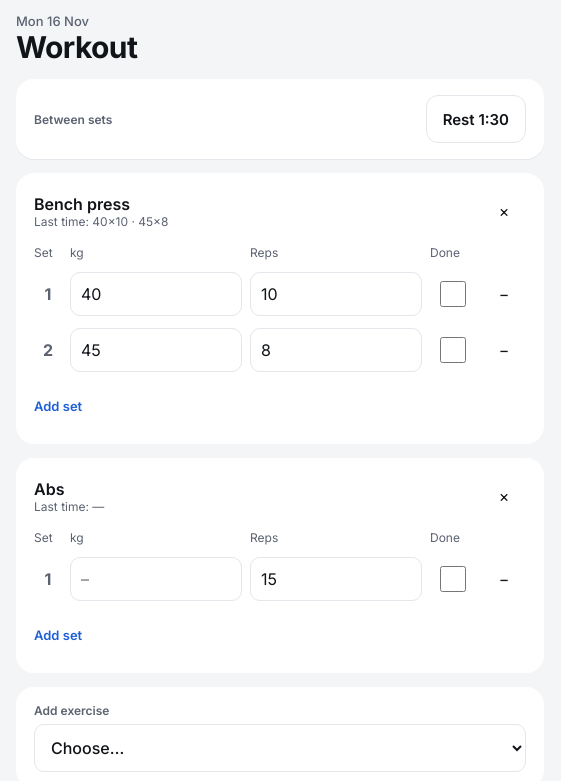
Test: the rest timer counts down, can be adjusted, and says when rest is over
Click the button "Rest 1:30" at (476, 119), box [426,95,526,143]
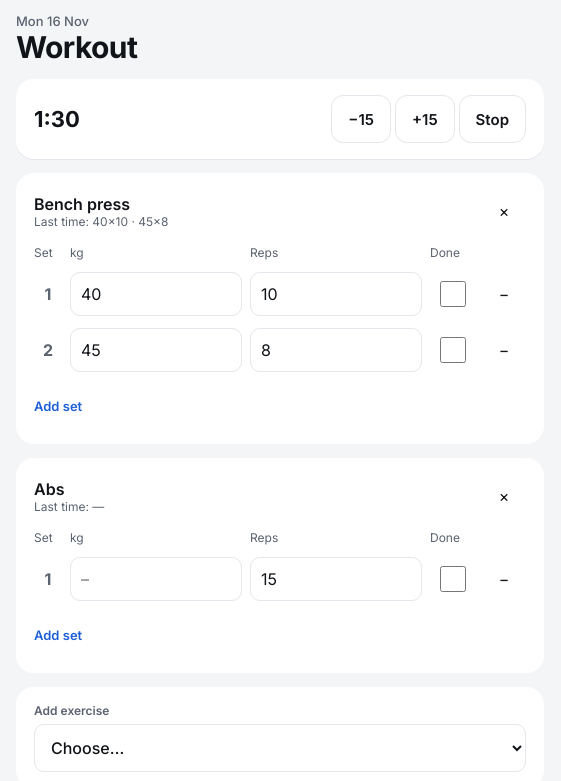
Result: the text "1:30" is shown at [34,106,80,132]
Click the button named "Add 15 seconds" at (425, 119), box [395,95,455,143]
Wait 106000 ms
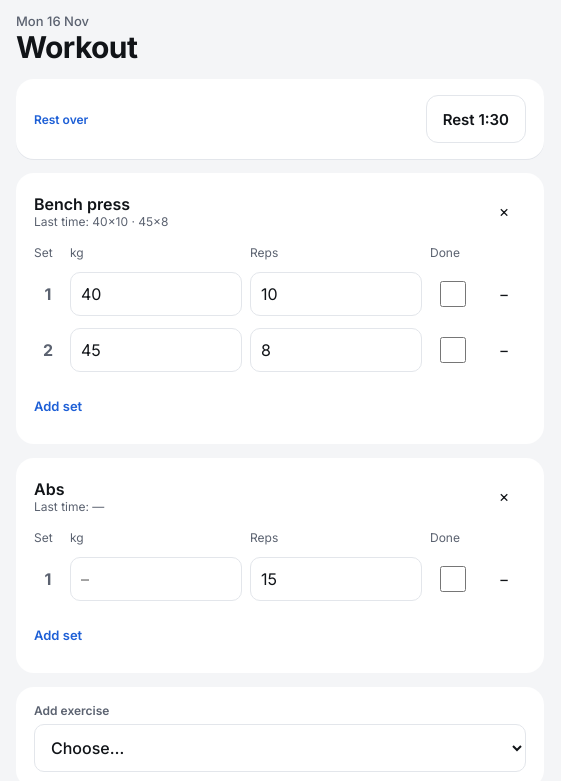
Result: the text "Rest over" is shown at [34,112,88,126]
